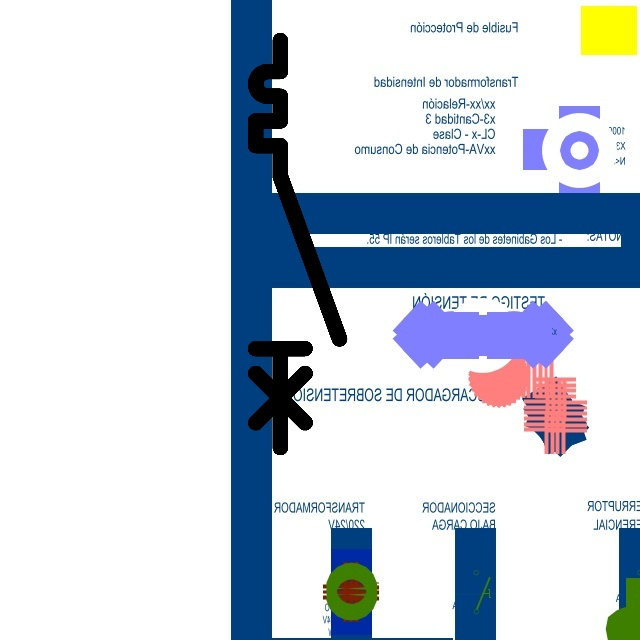interruptor_termomagnetico: (245, 30, 350, 458)
